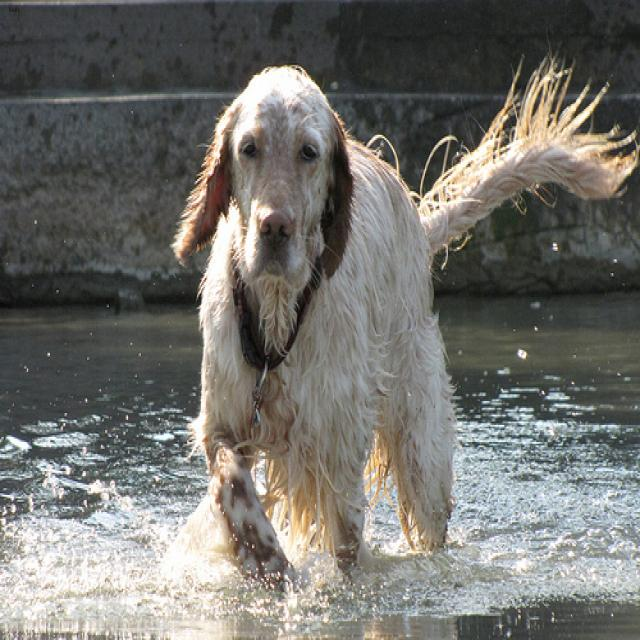dog-english_setter: (168, 48, 637, 589)
